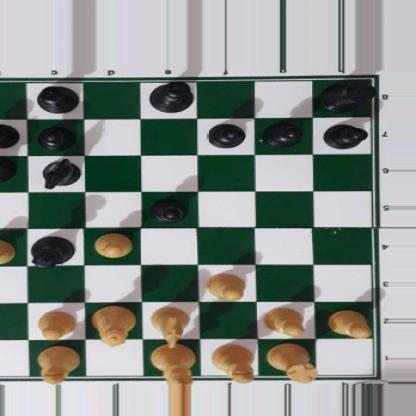black-bishop: (32, 84, 81, 112), (0, 156, 17, 183)
black-king: (148, 81, 196, 113)
black-knight: (39, 157, 79, 187)
black-pawn: (323, 122, 366, 149), (147, 195, 189, 222), (264, 120, 302, 146), (207, 121, 245, 147), (38, 123, 74, 149), (0, 122, 18, 148)
black-queen: (31, 235, 74, 269)
black-rook: (320, 77, 372, 111)
white-bishop: (209, 344, 257, 384), (37, 345, 81, 386)
white-king: (149, 341, 196, 386)
white-knight: (149, 306, 189, 347)
white-pawn: (262, 306, 307, 336), (326, 308, 371, 336), (35, 309, 77, 338), (204, 272, 245, 300), (92, 232, 133, 258), (0, 237, 17, 265)
white-queen: (91, 306, 136, 347)
white-rook: (269, 341, 314, 383)
